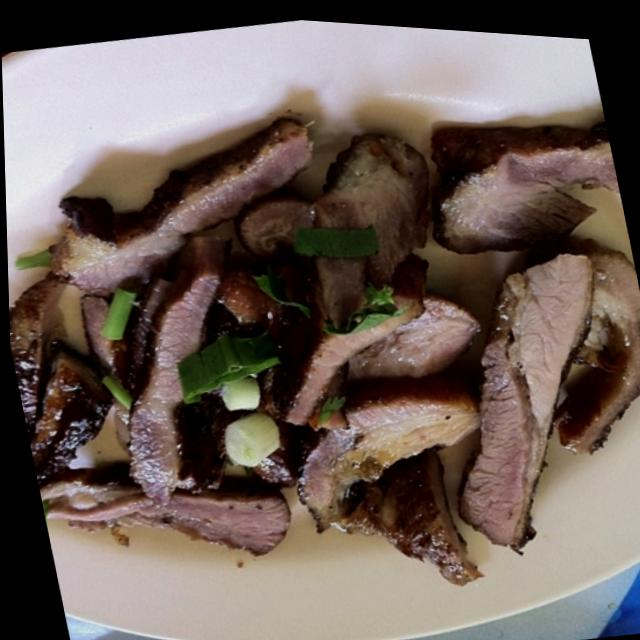猪肉菜式: (2, 91, 640, 556)
